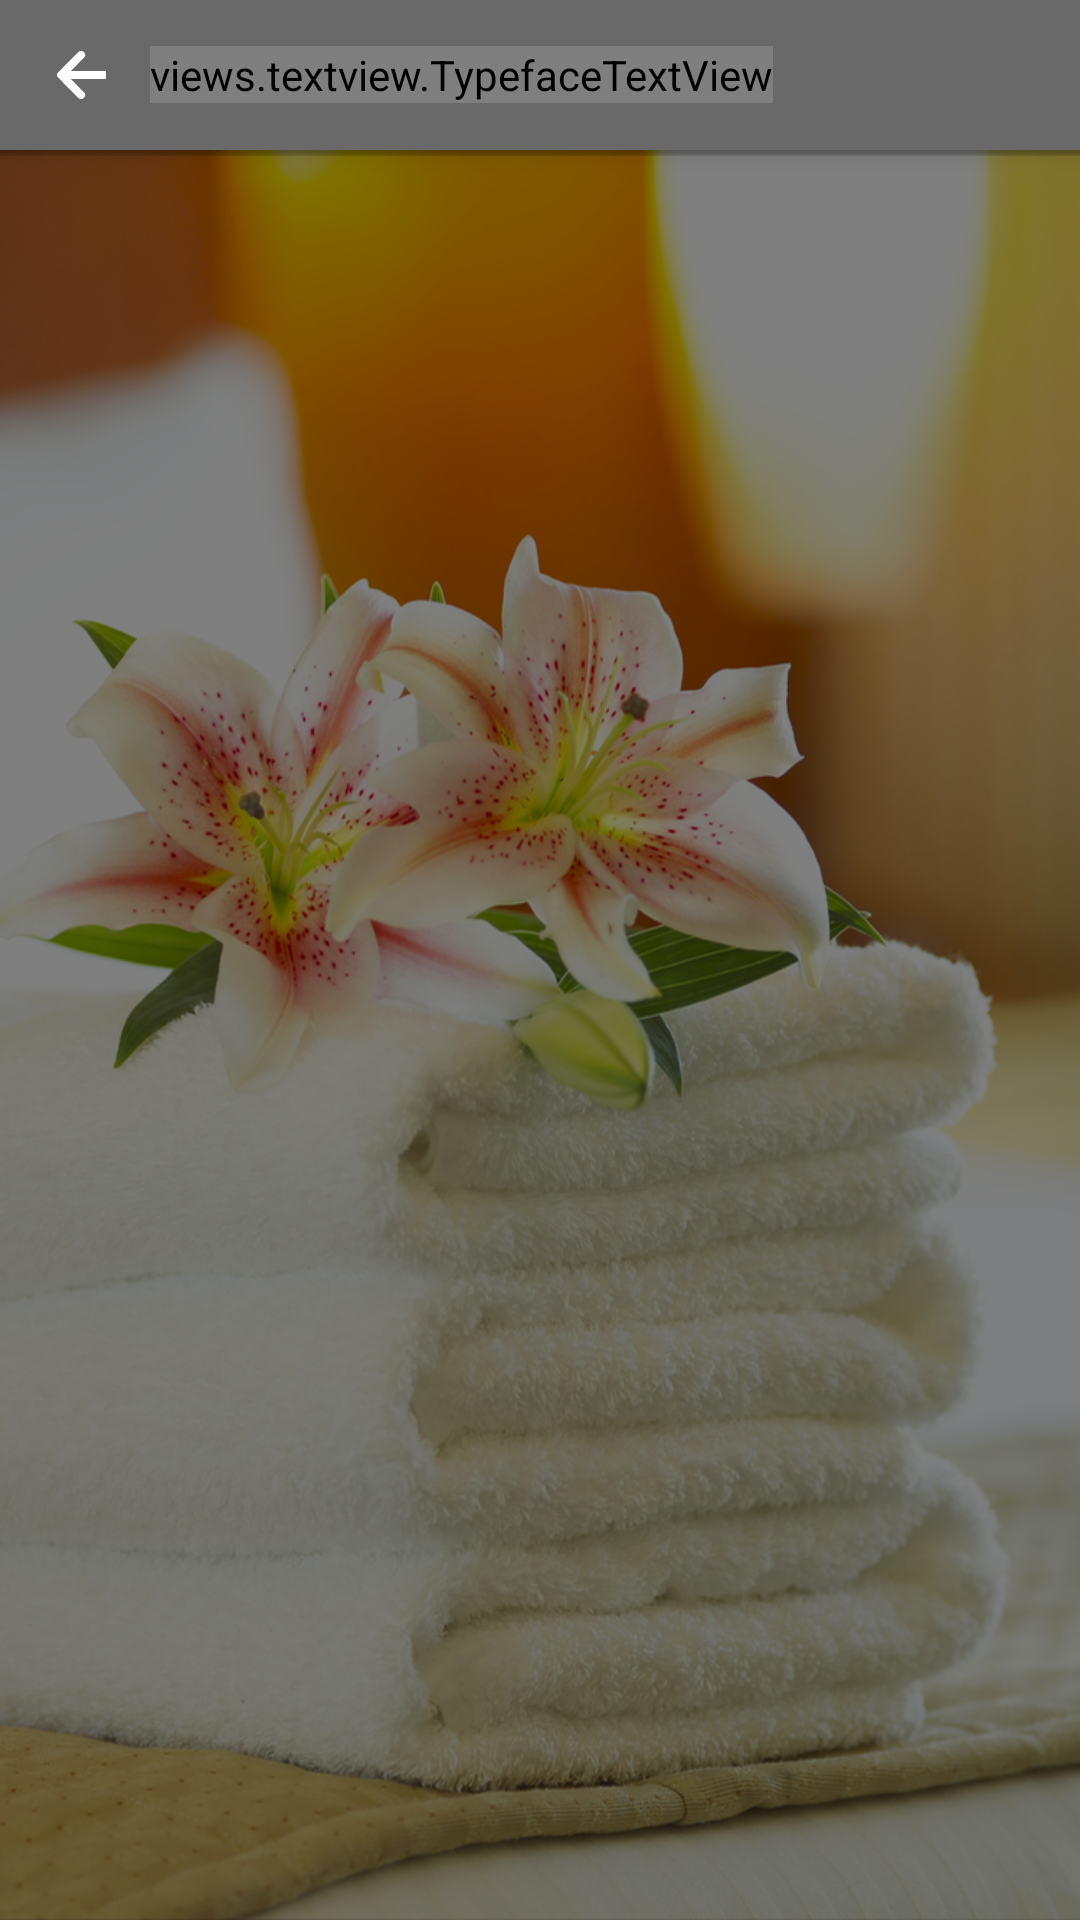

Icons on this 1080×1920 Android screen, each with its box as (x1, y1, x2, y2):
leftarrow: (57, 51, 106, 99)
